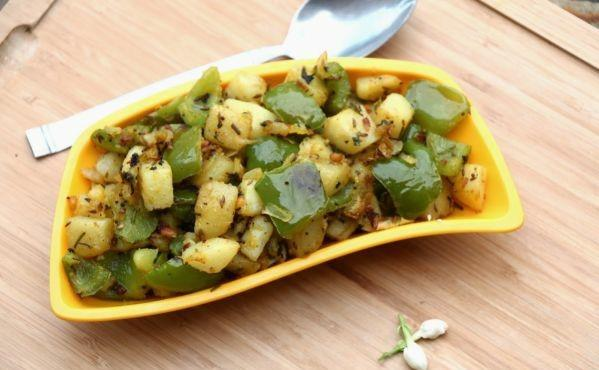AlooMasala: (69, 53, 488, 301)
